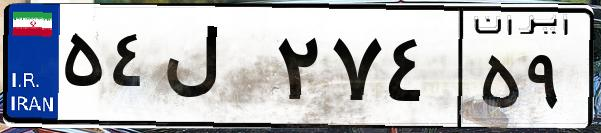2: (270, 28, 330, 110)
4: (385, 28, 445, 110), (110, 28, 158, 98)
5: (57, 26, 110, 100), (475, 38, 525, 113)
7: (330, 28, 385, 110)
9: (525, 38, 570, 115)
ل: (158, 20, 270, 120)
